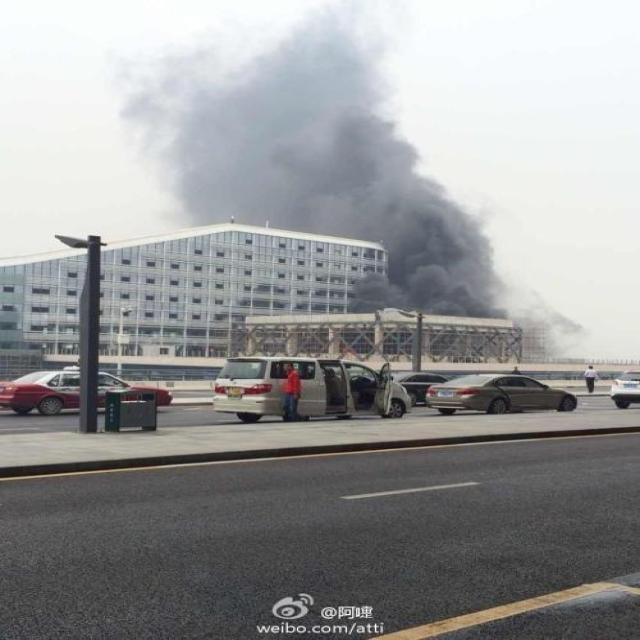smoke: (112, 1, 512, 317)
